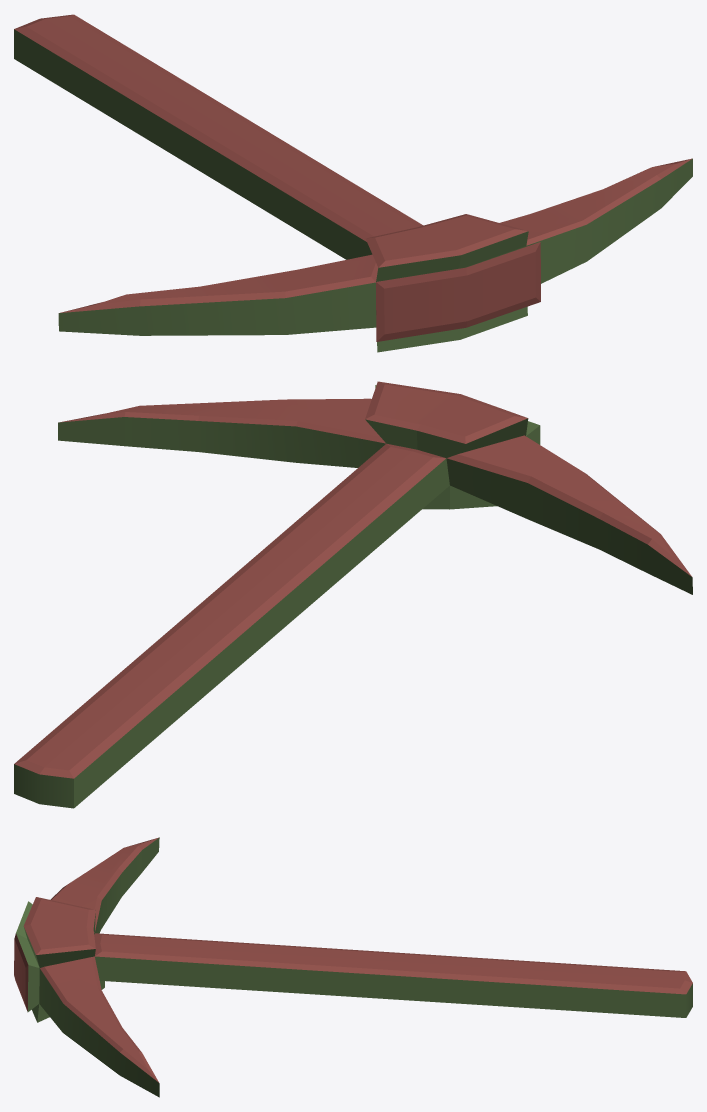
File: picocarton (1).fbx
3 renders of one model, top to bottom at view 1: azimuth 30°, elevation 25°; view 2: azimuth 150°, elevation 25°; view 3: azimuth 270°, elevation 25°, orthographic. The views are drawn at different scales.
Visible parts, largest first — view 1: Cylinder006; view 2: Cylinder006; view 3: Cylinder006.
Boxes of the visible parts, left/top/right/bottom form: Cylinder006: left=14, top=14, right=692, bottom=352; Cylinder006: left=14, top=381, right=692, bottom=808; Cylinder006: left=14, top=837, right=692, bottom=1097.
Bounding box in the file's own units: 49.07 × 7.78 × 57.25.
